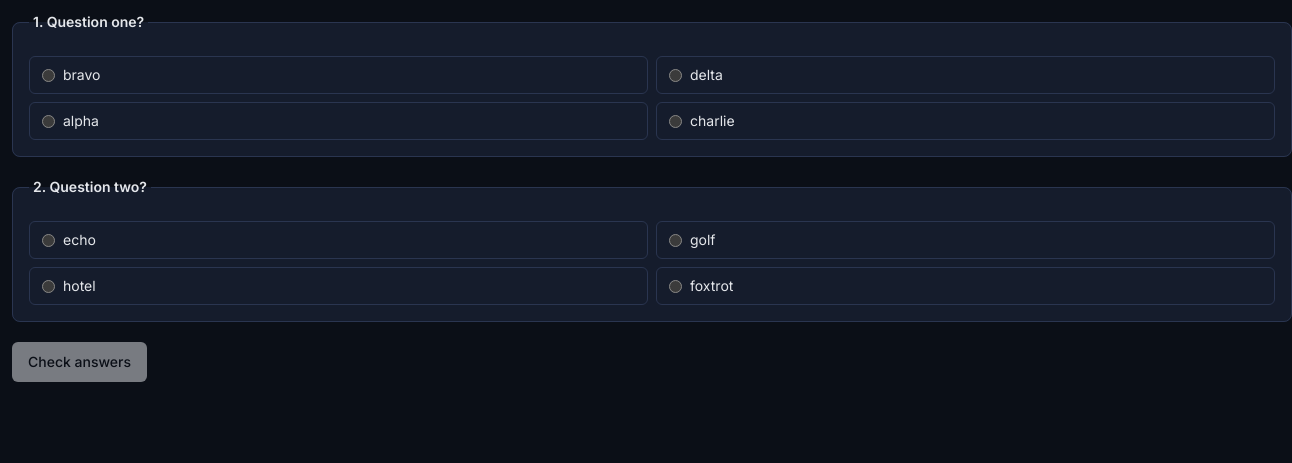
Scenario: Quiz › scores answers, shows explanations and records the score
Click the radio button labelled "bravo" at (48, 75), box x1=42 y1=68 x2=55 y2=82
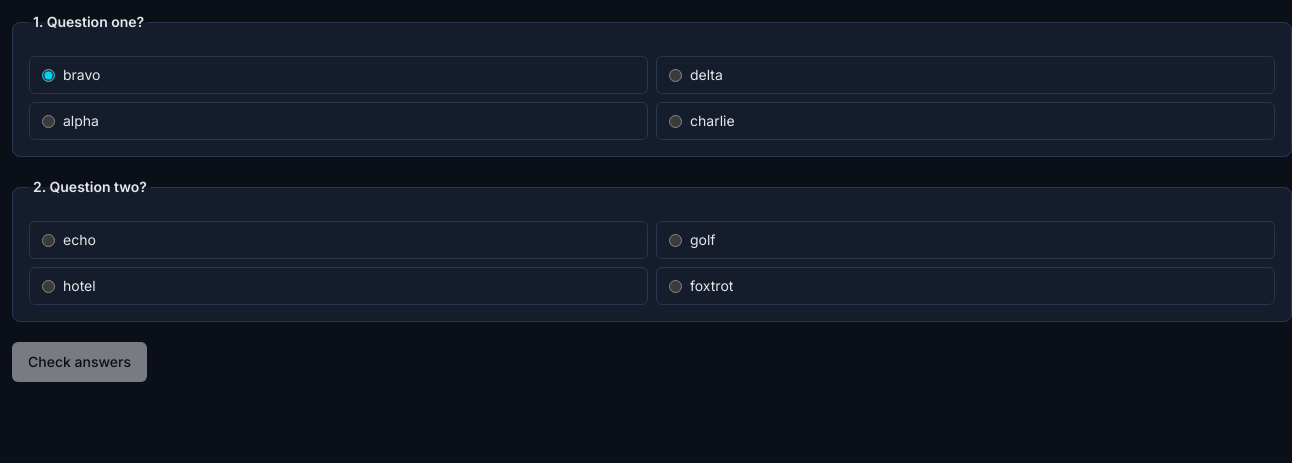
Click the radio button labelled "foxtrot" at (676, 286), box x1=669 y1=280 x2=682 y2=292
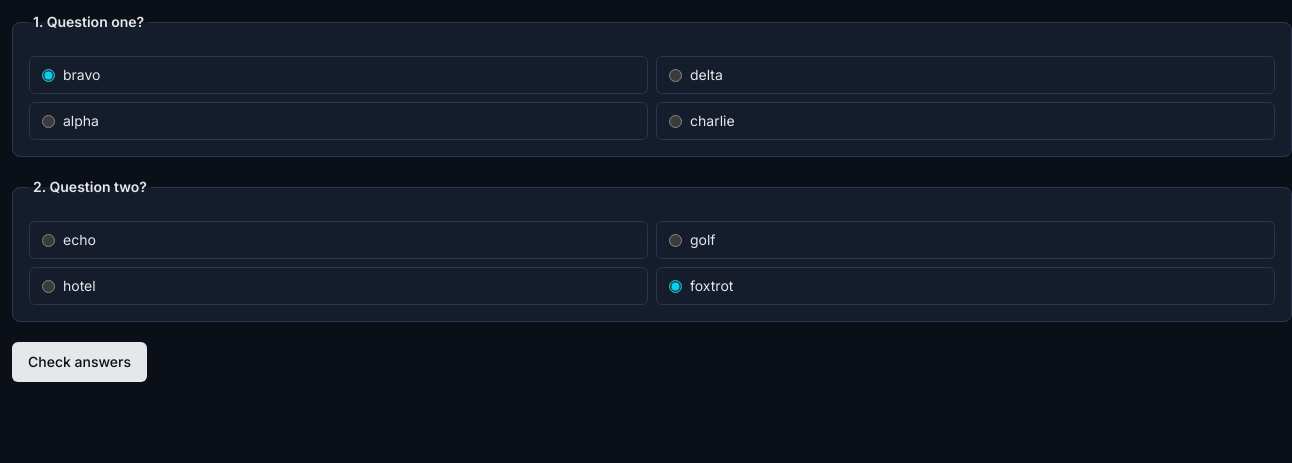
Click the button "Check answers" at (80, 362), box x1=12 y1=342 x2=147 y2=382
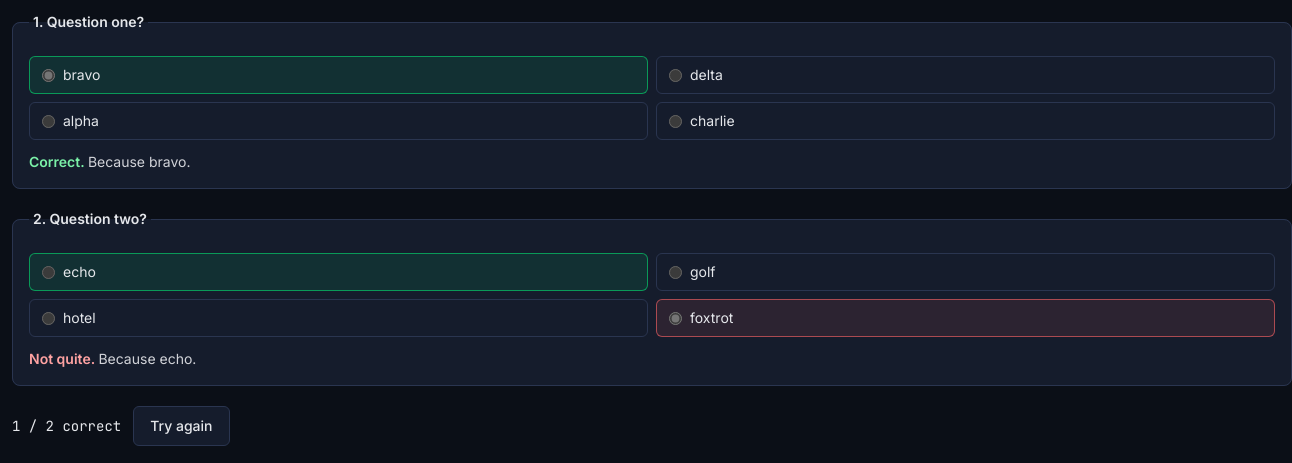
Check: the text "1 / 2 correct" is shown, box x1=12 y1=416 x2=121 y2=436
Check: the text "Because bravo." is shown, box x1=88 y1=153 x2=190 y2=170
Check: the text "Because echo." is shown, box x1=98 y1=350 x2=196 y2=367
Click the button "Try again" at (181, 426), box x1=133 y1=406 x2=230 y2=446
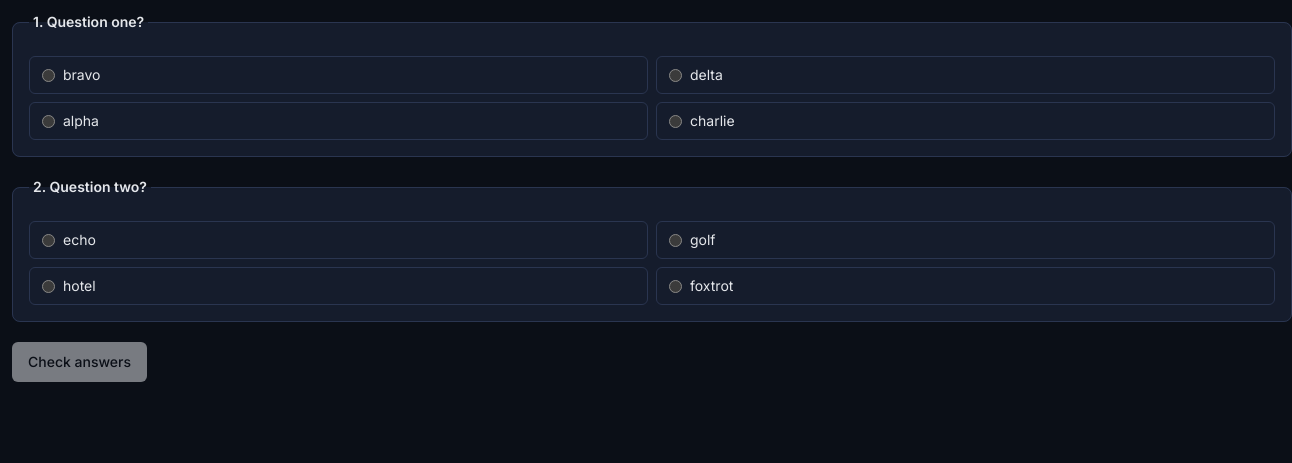
Check: the text "Because bravo." is gone
